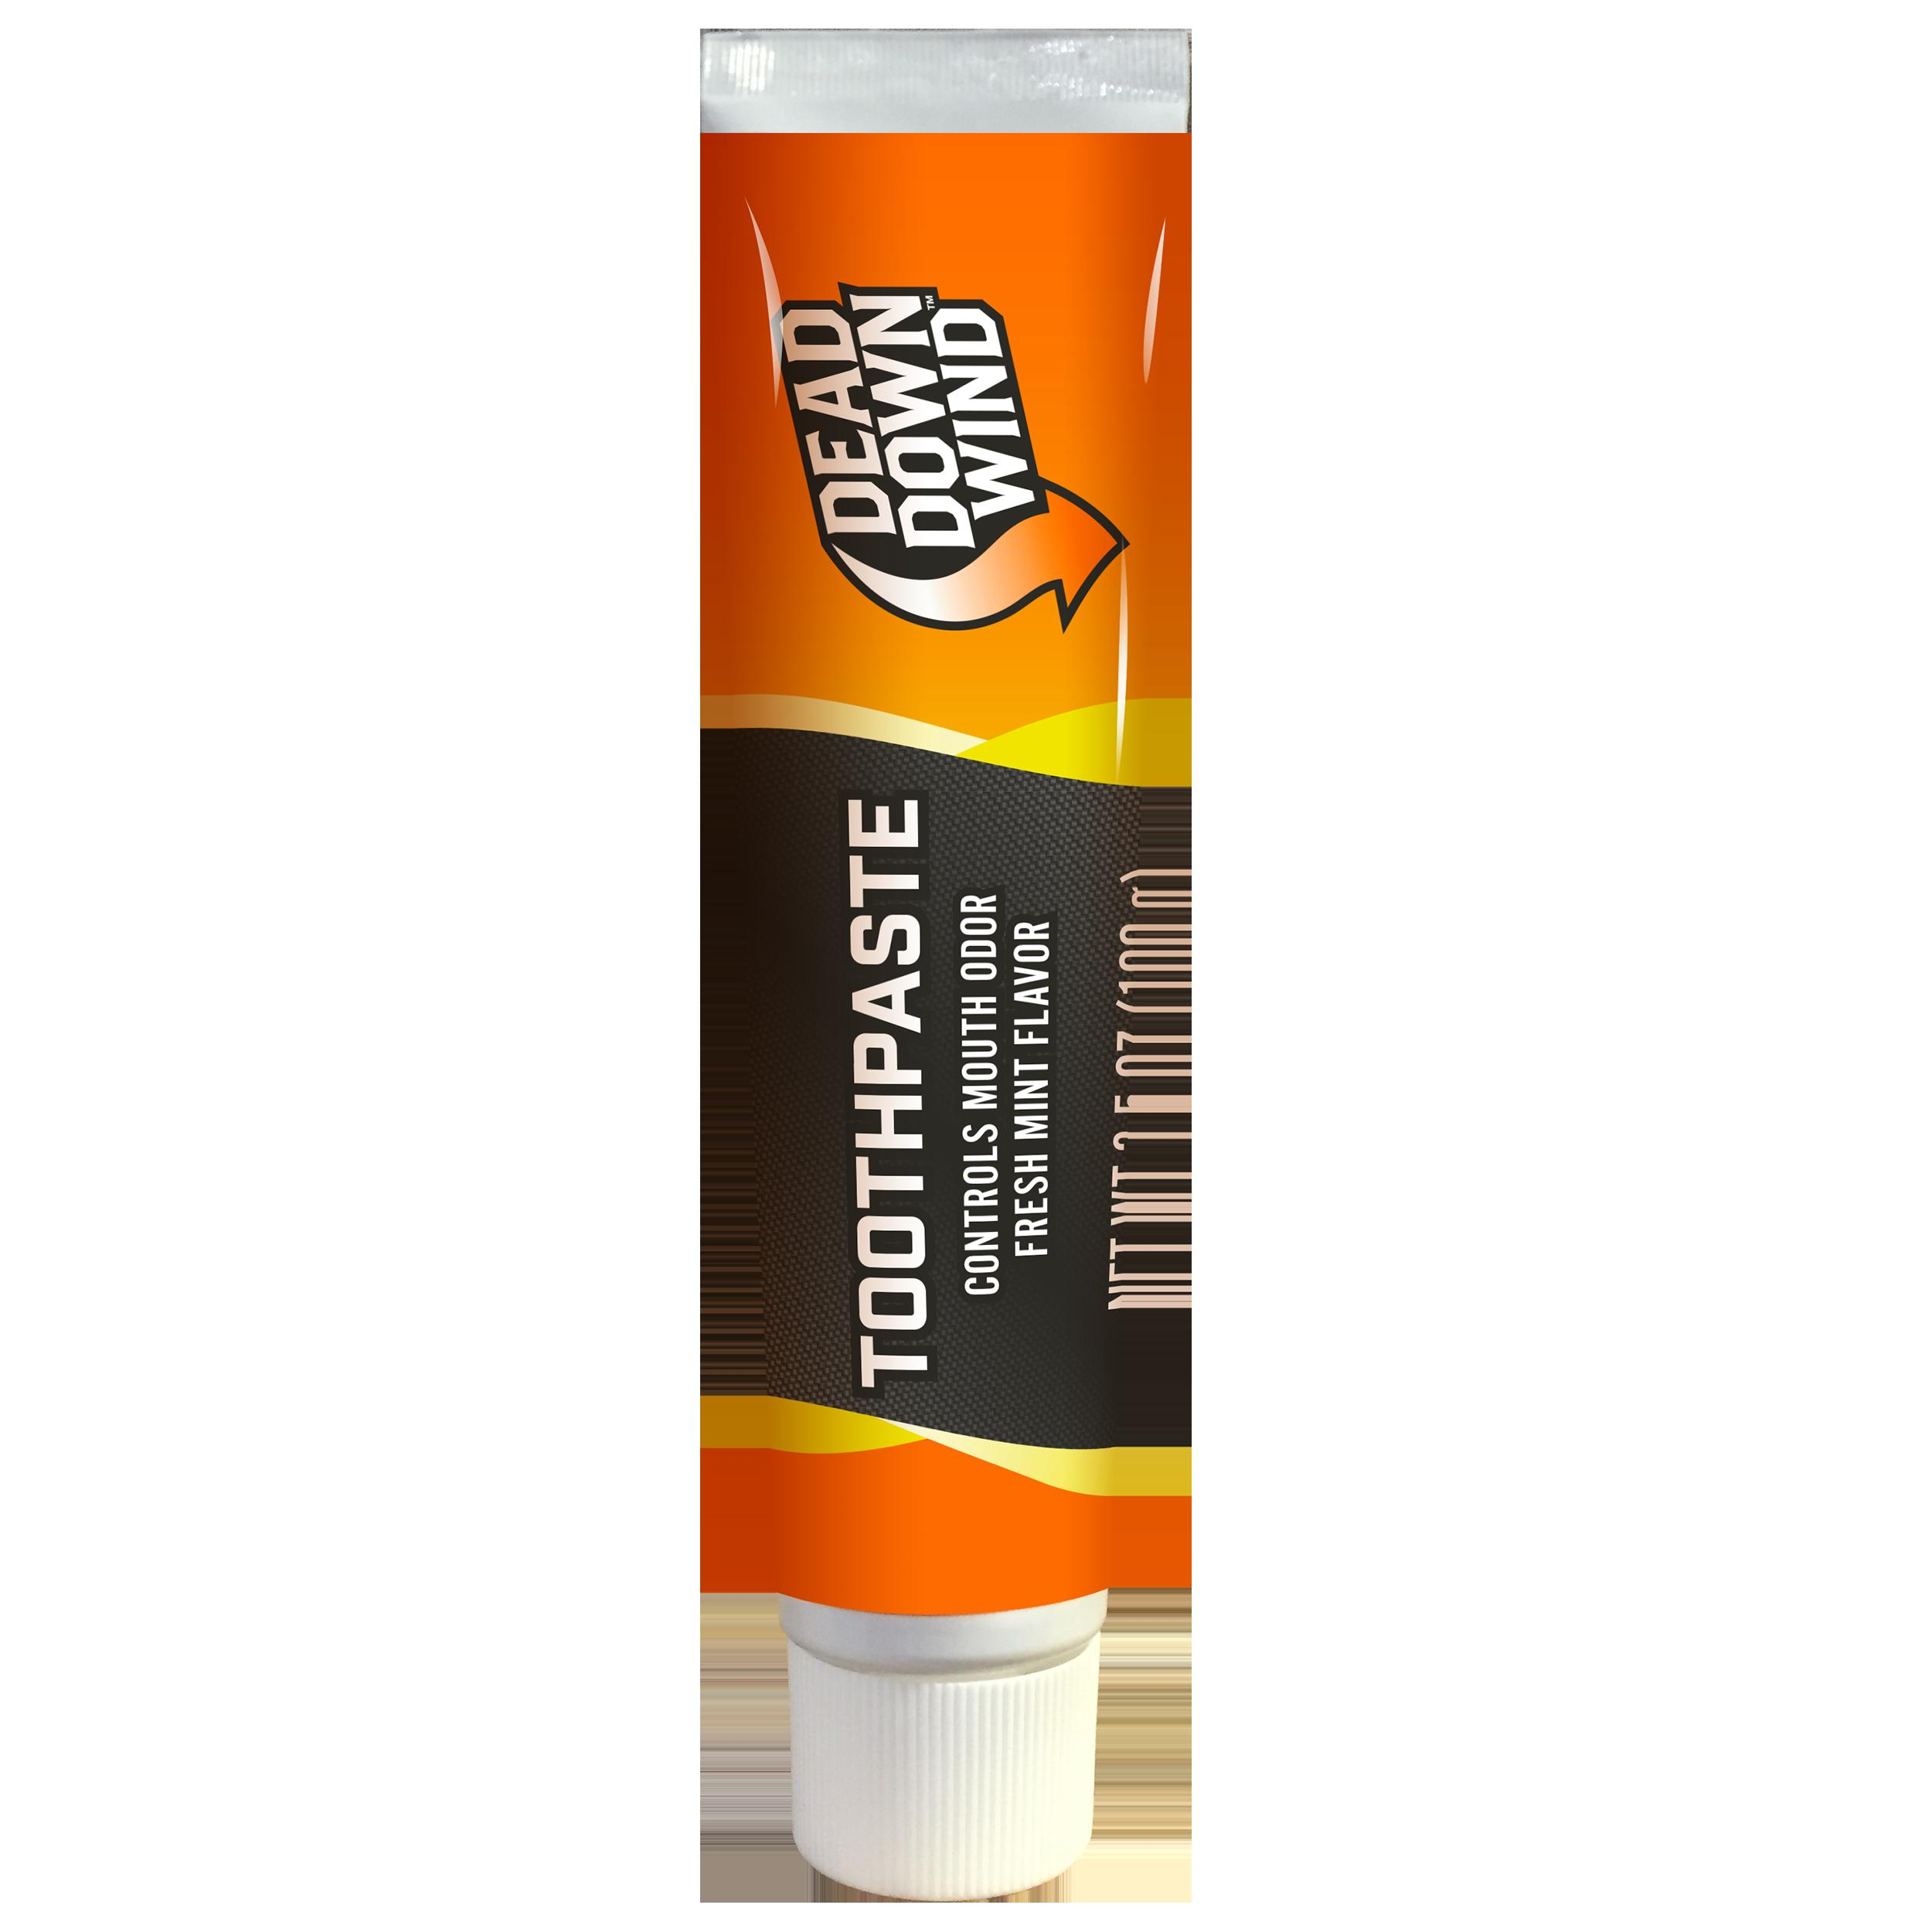toothpaste: (653, 16, 1145, 1909)
